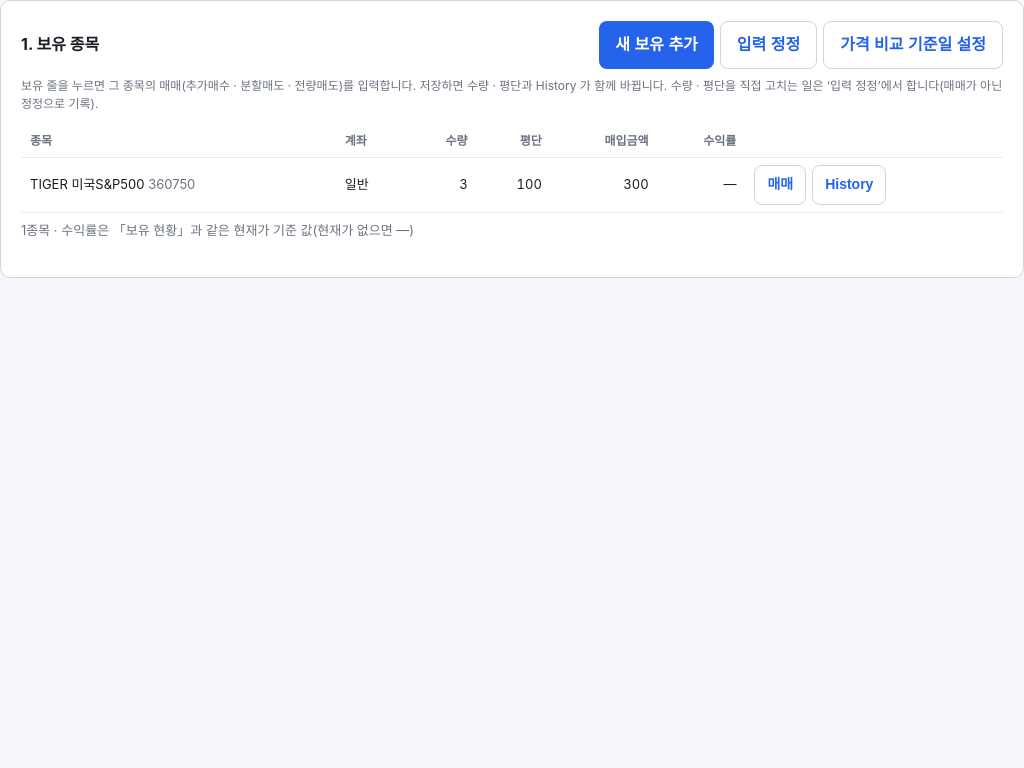
Test: 가격 비교 기준일 일괄 설정 창 › 대상 = 보유 중 · 기준잔고 / 잔고 등록 · 기준일 없음 — 설정 한 번에 전부 보낸다
Click the button "가격 비교 기준일 설정" at point(913, 45), box [823,21,1003,69]
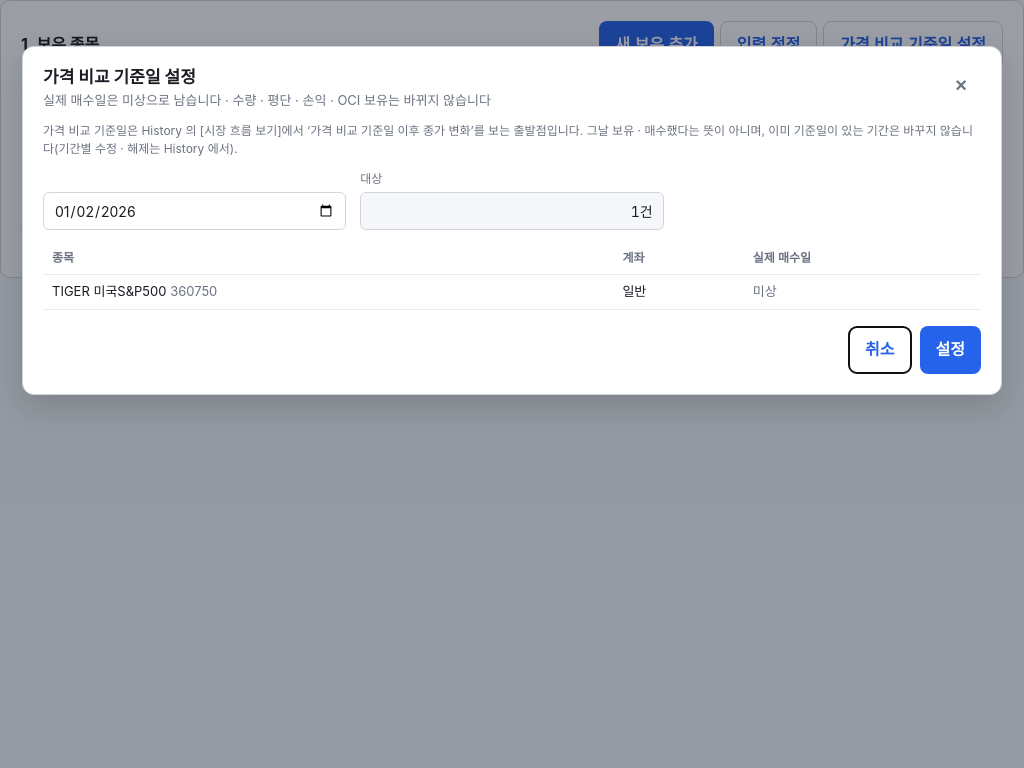
Expected: the date field labelled "가격 비교 기준일" holds "2026-01-02", [43,192,346,230]
Expected: the text "1건" is shown, [360,192,664,230]
Expected: the text "TIGER 미국S&P500" is shown, [52,283,166,299]
Click the button "설정" at point(950, 350), box [920,326,981,374]
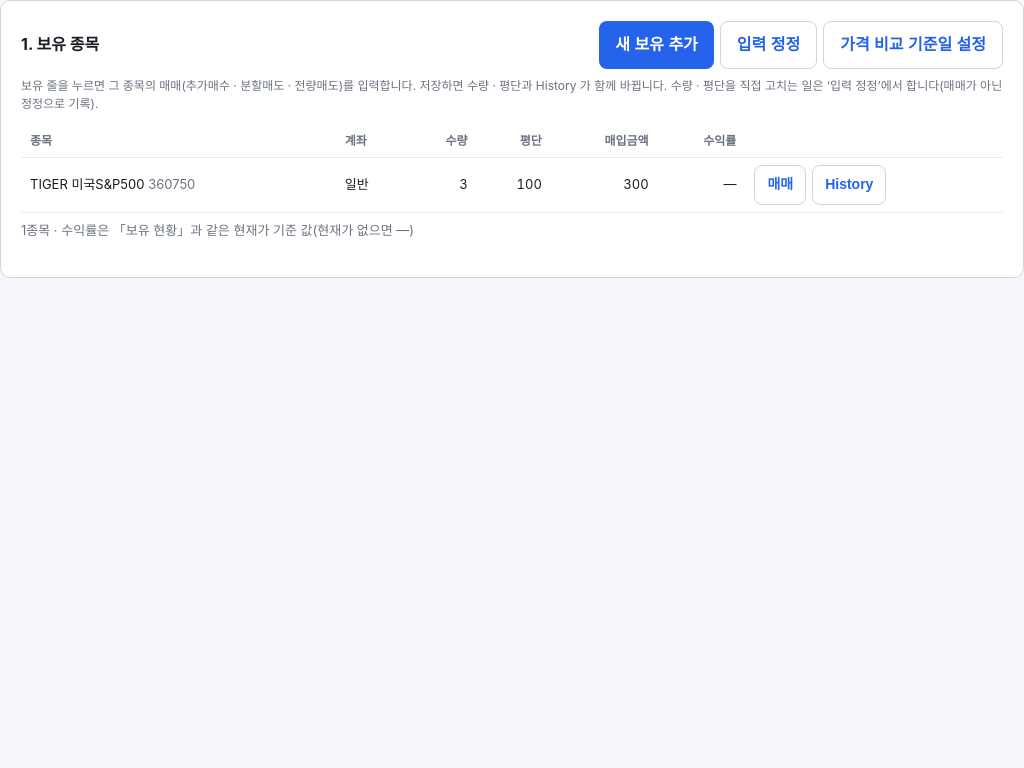
Expected: the dialog is gone
